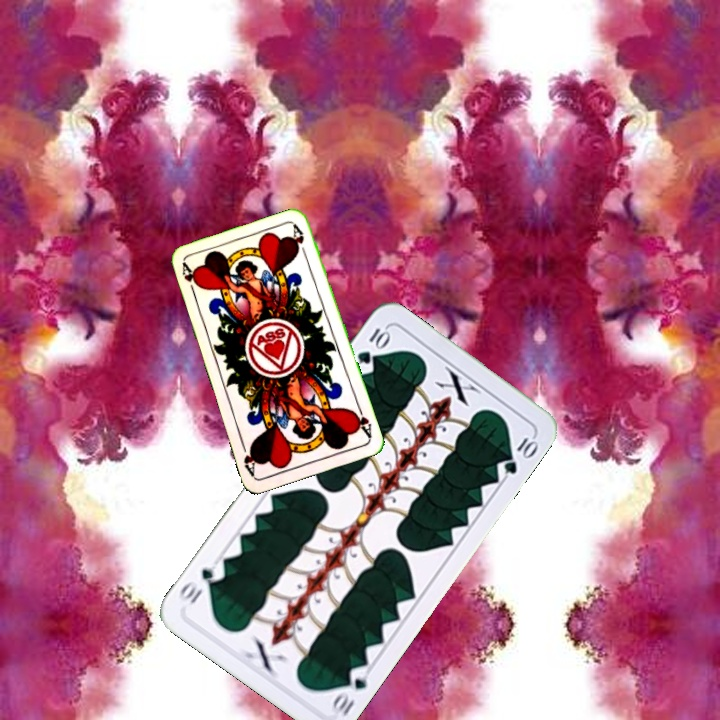G10: (328, 662, 373, 719), (352, 324, 392, 367)
HA: (348, 400, 374, 440), (178, 259, 200, 299)
